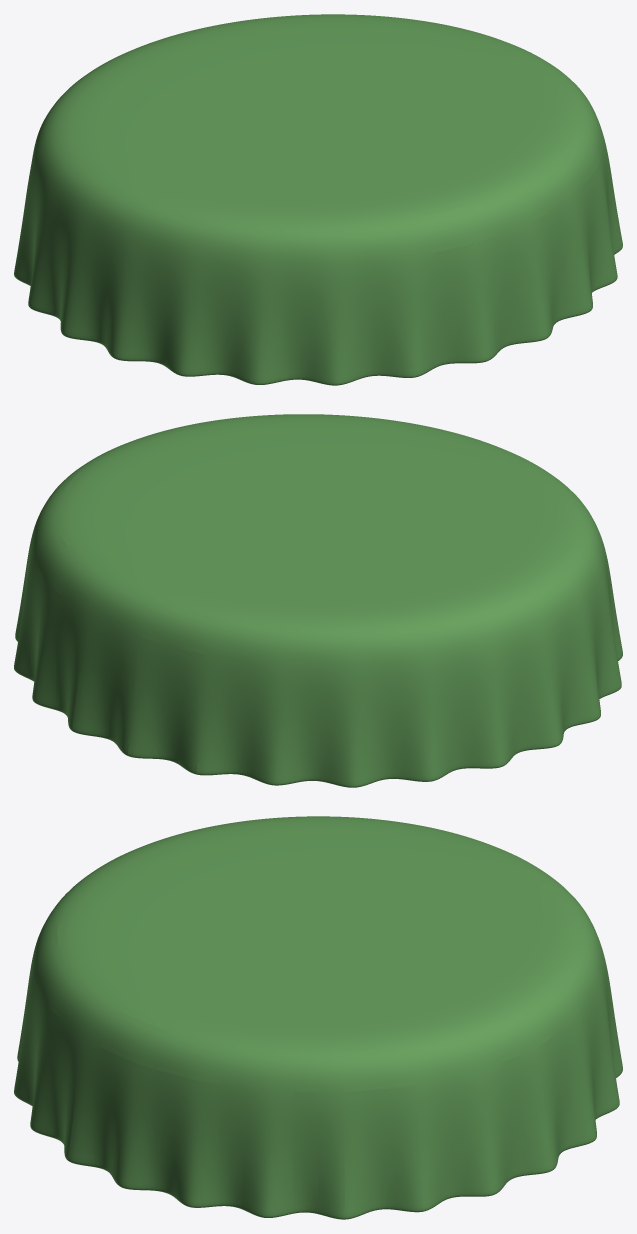
Rendered from dr.pepper line.gltf.
3 renders of one model, top to bottom at view 1: azimuth 30°, elevation 25°; view 2: azimuth 150°, elevation 25°; view 3: azimuth 270°, elevation 25°, orthographic. The views are drawn at different scales.
Visible parts, largest first — view 1: TooBig0, Cap1; view 2: TooBig0, Cap1; view 3: TooBig0, Cap1.
Part boxes in pixels (x1,y1,x2,y2): TooBig0: [14, 14, 622, 385]; Cap1: [174, 17, 613, 349]; TooBig0: [14, 414, 622, 787]; Cap1: [14, 416, 464, 776]; TooBig0: [14, 816, 622, 1219]; Cap1: [23, 889, 619, 1211].
Size of the model in its own units: 0.6205 by 0.1637 by 0.5815.
